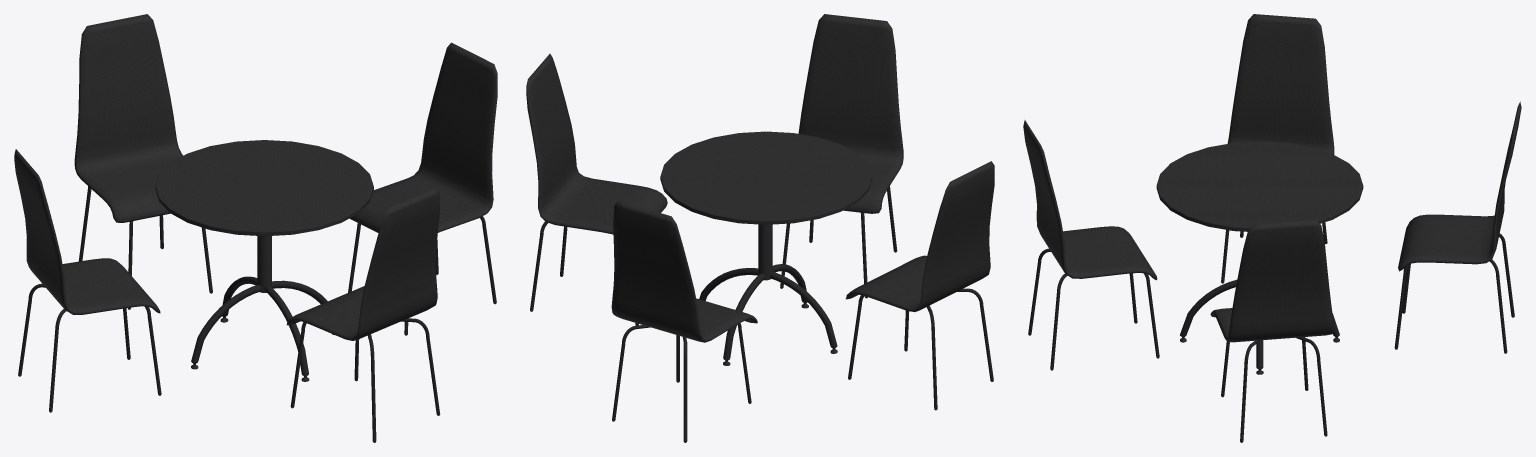
3 renders of one model, left to right at view 1: azimuth 30°, elevation 25°; view 2: azimuth 150°, elevation 25°; view 3: azimuth 270°, elevation 25°, orthographic. The views are drawn at different scales.
Parts seen in each view (by area): view 1: eb5561075aa70f0b92b600b2619f4ba7d4c7b463; view 2: eb5561075aa70f0b92b600b2619f4ba7d4c7b463; view 3: eb5561075aa70f0b92b600b2619f4ba7d4c7b463.
Boxes of the visible parts, bbox=[...] form: eb5561075aa70f0b92b600b2619f4ba7d4c7b463: bbox=[14, 14, 497, 442]; eb5561075aa70f0b92b600b2619f4ba7d4c7b463: bbox=[526, 14, 994, 442]; eb5561075aa70f0b92b600b2619f4ba7d4c7b463: bbox=[1023, 14, 1521, 442].
Size of the model in its own units: 218 by 106 by 217.
